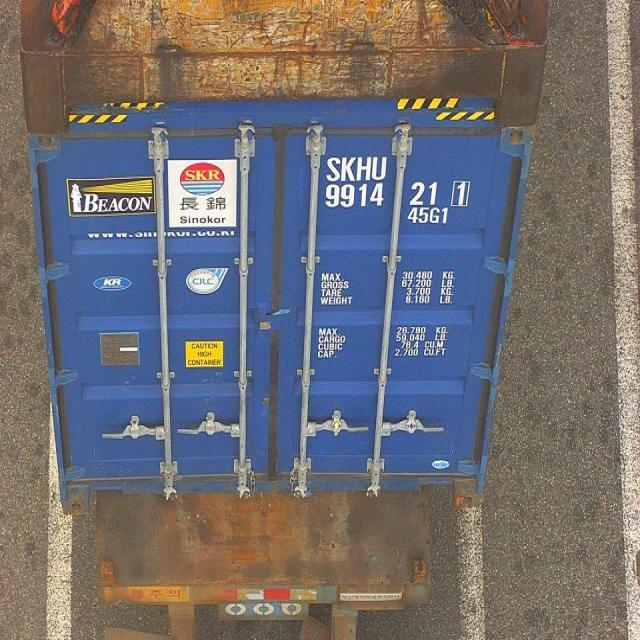ISO: (408, 206, 448, 226)
container_number: (324, 150, 472, 208)
